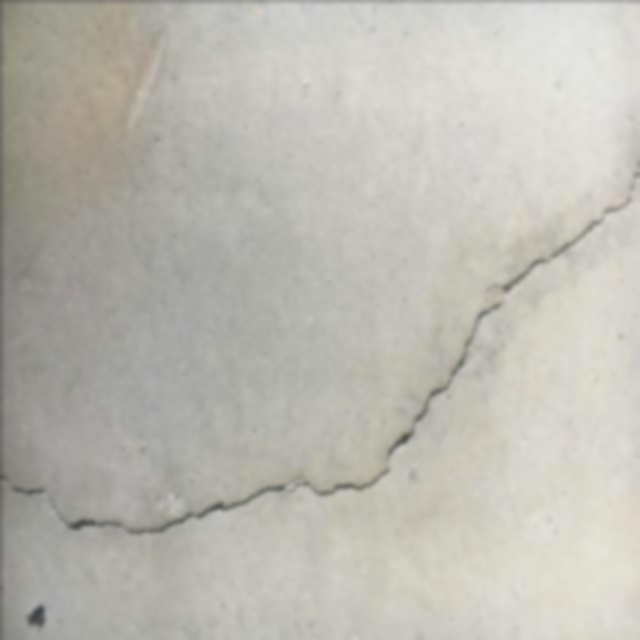SurfaceCrack: (1, 20, 640, 614)
